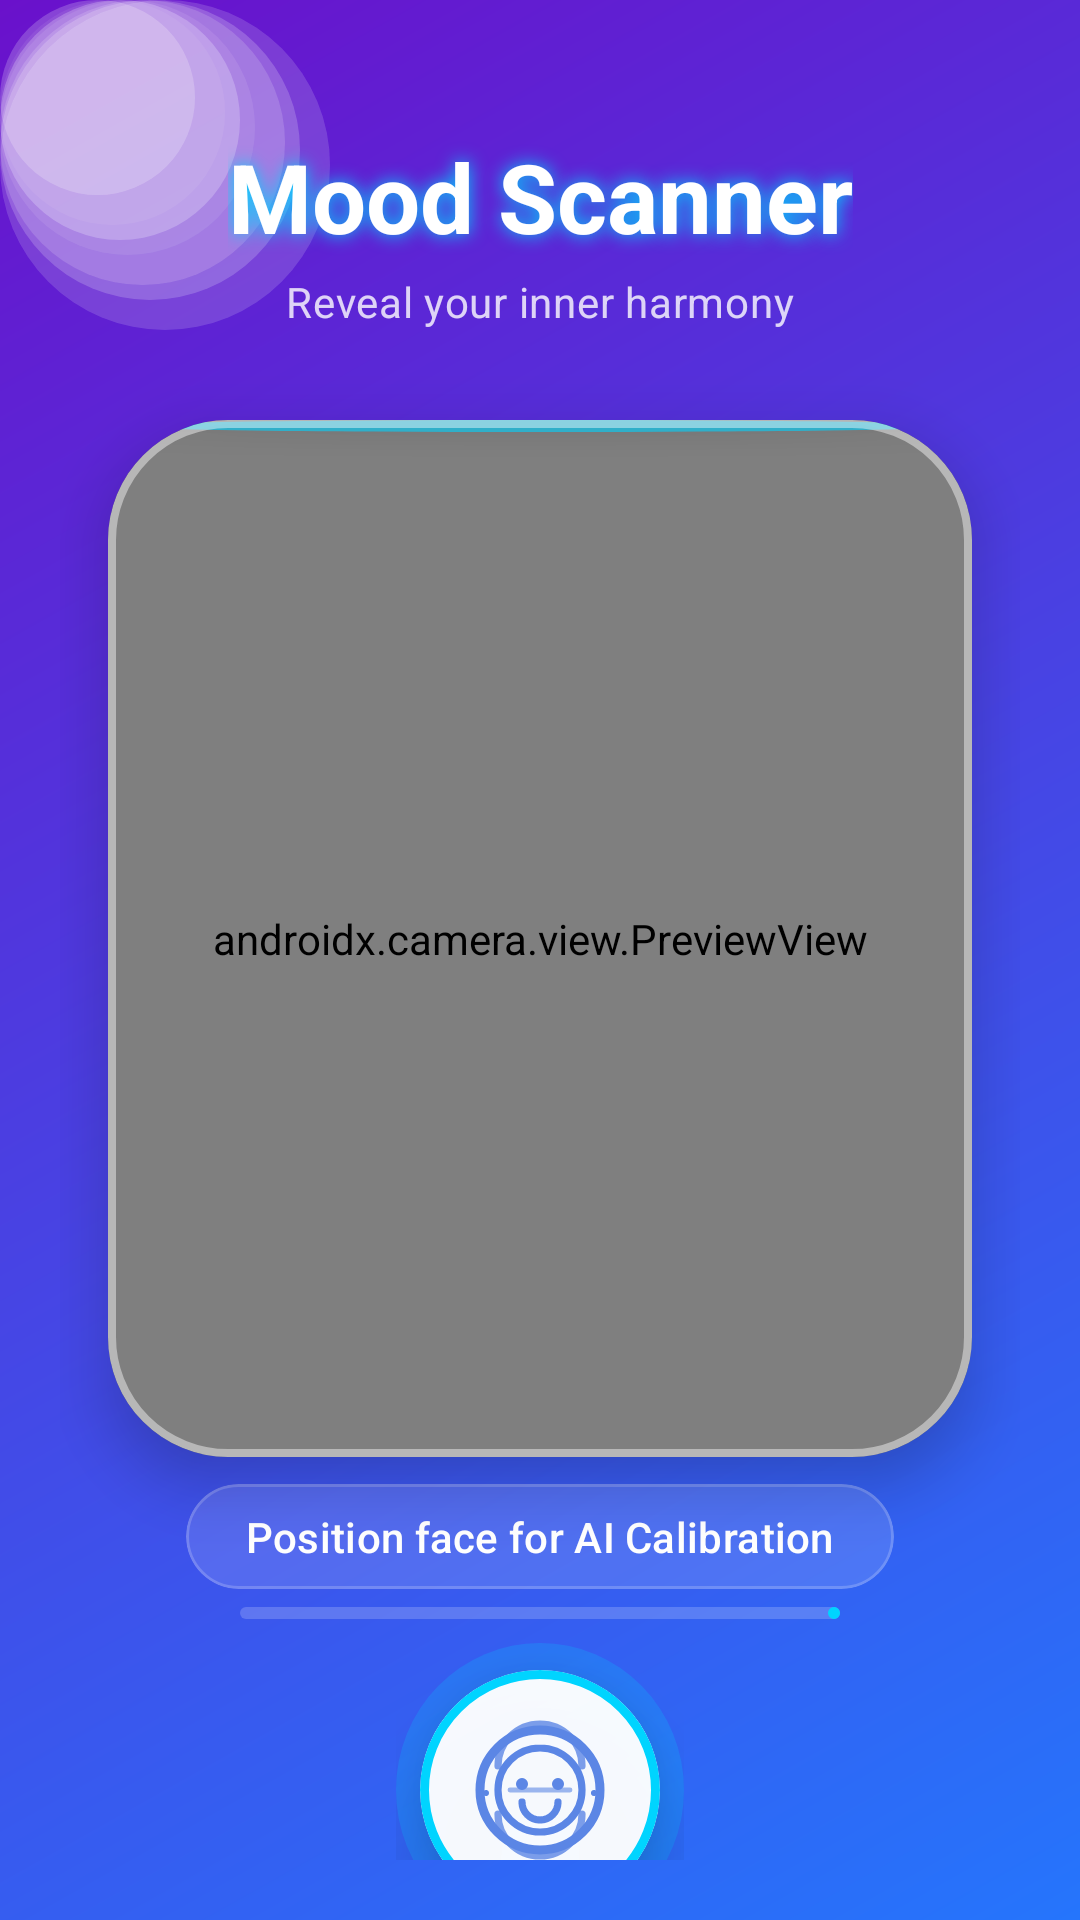

Named icons in this screenshot (1080w x 1920h) and their bounding boxes, (x1,y1,x2,y2):
mood scan: (468,1720,612,1862)
